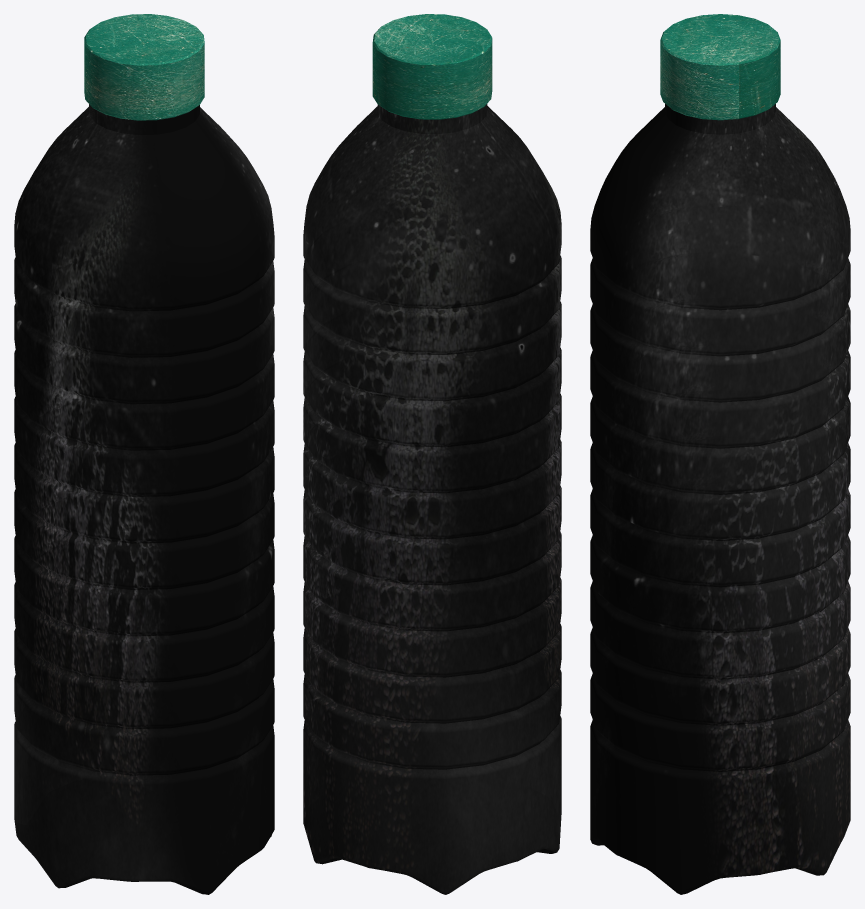
File: water_bottle_m.glb
3 renders of one model, left to right at view 1: azimuth 30°, elevation 25°; view 2: azimuth 150°, elevation 25°; view 3: azimuth 270°, elevation 25°, orthographic.
Parts seen in each view (by area): view 1: pCylinder8, pCylinder9; view 2: pCylinder8, pCylinder9; view 3: pCylinder8, pCylinder9.
Part boxes in pixels (x1=…): pCylinder8: x1=14, y1=104, x2=274, y2=894; pCylinder9: x1=84, y1=14, x2=204, y2=120; pCylinder8: x1=303, y1=104, x2=561, y2=894; pCylinder9: x1=372, y1=14, x2=492, y2=119; pCylinder8: x1=590, y1=104, x2=850, y2=894; pCylinder9: x1=660, y1=14, x2=780, y2=120.
Bounding box in the file's own units: 0.0879 × 0.3 × 0.0879.
2 materials, 2 textured.
